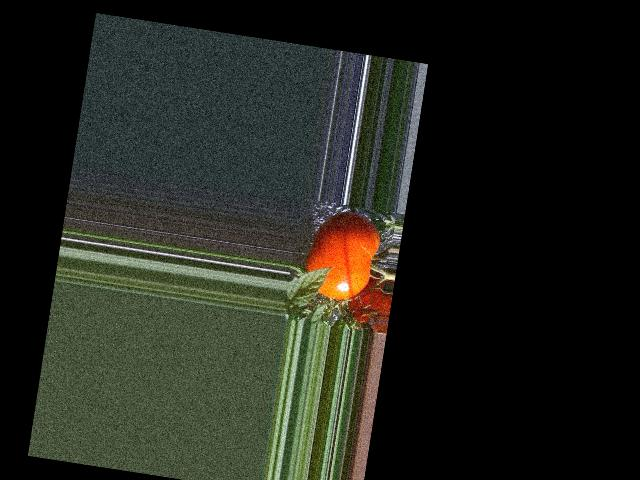tomato: (301, 207, 383, 304)
